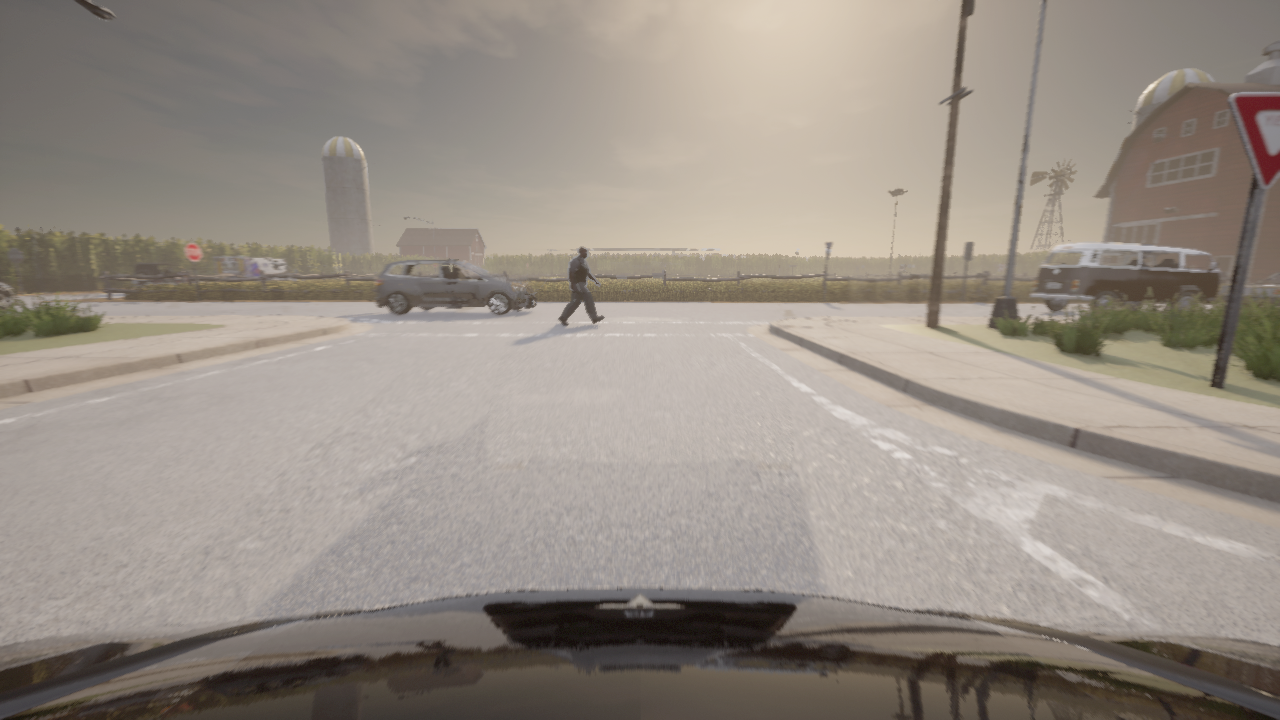cyclist: (0, 588, 1279, 719), (1030, 242, 1220, 312), (376, 259, 536, 315), (213, 256, 301, 281), (1219, 272, 1279, 307), (130, 262, 195, 286)
pedestrian: (559, 246, 603, 324)
